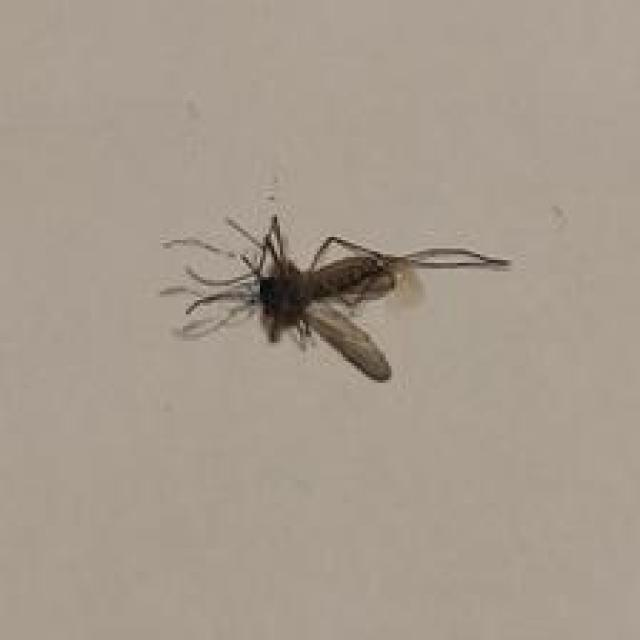Culex: (157, 208, 512, 383)
